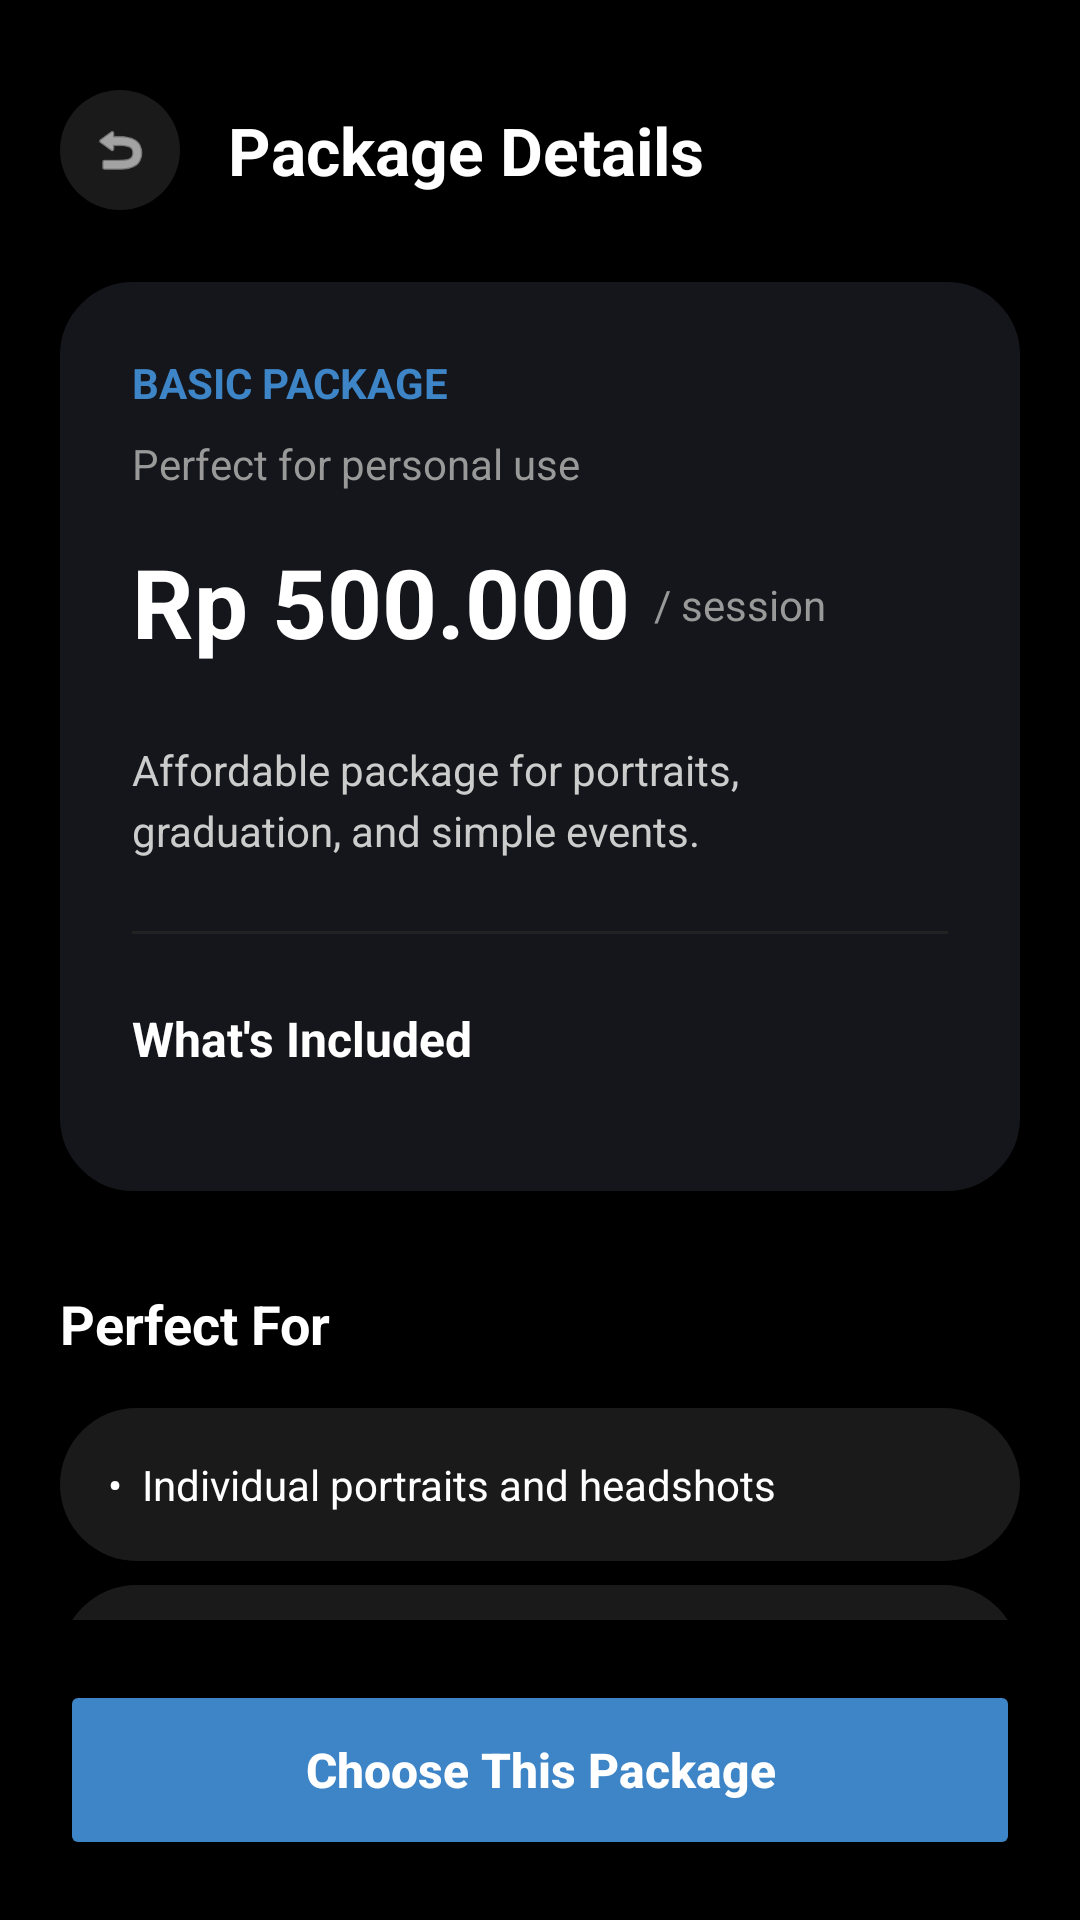

Icons on this 1080 x 1920 Android screen, each with the point to tap as (x=x, y=y):
revert: (x=120, y=150)
